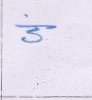anusvara: (25, 14, 28, 17)
